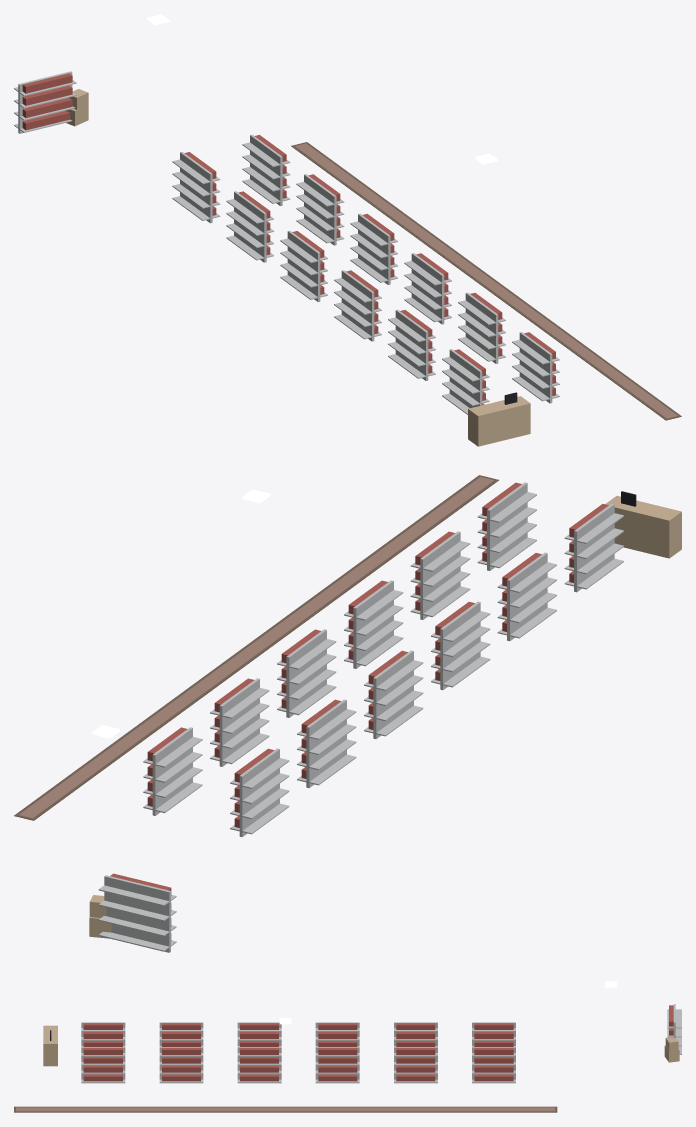
File: fine-s0.glb
3 renders of one model, top to bottom at view 1: azimuth 30°, elevation 25°; view 2: azimuth 150°, elevation 25°; view 3: azimuth 270°, elevation 25°, orthographic. The views are drawn at different scales.
Parts seen in each view (by area): view 1: soft-s0, shelving.000, shop-counter.000, shelf.004, shelf.009, shelf.002, shelf.003, shelf.010, shelf.000, shelf.006, shelf.008, shelf.007 (+3 smaller); view 2: soft-s0, shelving.000, shelf.010, shelf.001, shelf.002, shelf.000, shelf.006, shelf.008, shelf.009, shelf.003, shelf.007, shelf.011 (+3 smaller); view 3: soft-s0, shelf.008, shelf.009, shelf.011, shelf.010, shelf.006, shelf.007, shelf.002, shelf.004, shelf.005, shelf.003, shelf.000 (+4 smaller).
Boxes of the visible parts, box(x1,y1,x2,y2) form: soft-s0: box(291, 142, 681, 420); shelving.000: box(14, 71, 76, 133); shop-counter.000: box(468, 392, 530, 446); shelf.004: box(388, 309, 435, 380); shelf.009: box(404, 253, 451, 324); shelf.002: box(280, 230, 327, 302); shelf.003: box(334, 270, 381, 341); shelf.010: box(458, 292, 505, 363); shelf.000: box(172, 152, 220, 223); shelf.006: box(242, 134, 290, 205); shelf.008: box(350, 213, 397, 284); shelf.007: box(296, 174, 344, 245); soft-s0: box(14, 475, 498, 820); shelving.000: box(98, 873, 176, 952); shelf.010: box(410, 531, 470, 619); shelf.001: box(297, 699, 356, 788); shelf.002: box(364, 650, 423, 738); shelf.000: box(230, 748, 289, 837); shelf.006: box(143, 727, 202, 815); shelf.008: box(277, 629, 336, 717); shelf.009: box(344, 580, 403, 668); shelf.003: box(431, 601, 490, 690); shelf.007: box(210, 678, 269, 766); shelf.011: box(477, 482, 536, 570); soft-s0: box(14, 1106, 557, 1112); shelf.008: box(315, 1047, 359, 1083); shelf.009: box(237, 1047, 281, 1083); shelf.011: box(81, 1047, 125, 1083); shelf.010: box(159, 1047, 203, 1083); shelf.006: box(472, 1047, 515, 1083); shelf.007: box(394, 1047, 437, 1083); shelf.002: box(315, 1022, 359, 1046); shelf.004: box(159, 1022, 203, 1046); shelf.005: box(81, 1022, 125, 1046); shelf.003: box(237, 1022, 281, 1046); shelf.000: box(472, 1022, 515, 1046).
Size of the model in its own units: 7.09 by 4.03 by 27.36.
